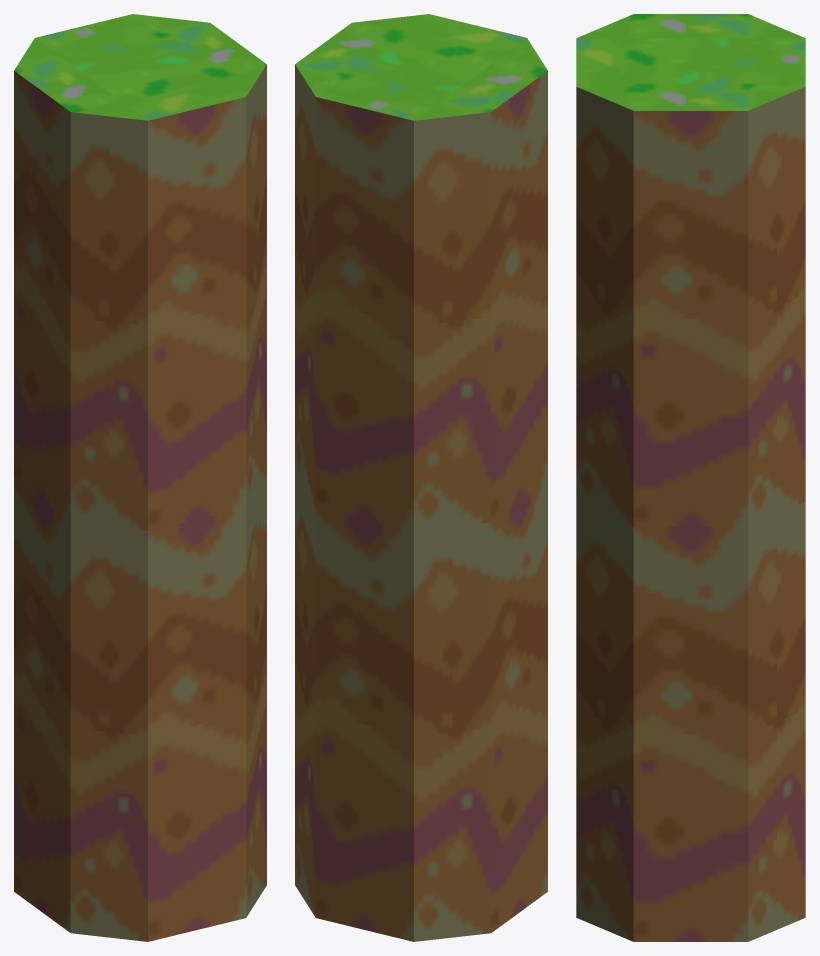
Rendered from RockPillarSmall.obj.
The picture shows the model from 3 angles, left to right: view 1: azimuth 30°, elevation 25°; view 2: azimuth 150°, elevation 25°; view 3: azimuth 270°, elevation 25°; orthographic projection.
Visible parts, largest first — view 1: Default; view 2: Default; view 3: Default.
Boxes of the visible parts, x1,y1,x2,y2 form: Default: (14, 14, 266, 941); Default: (295, 14, 547, 941); Default: (576, 14, 805, 941).
Size of the model in its own units: 2 by 8 by 2.
1 material, 1 textured.
